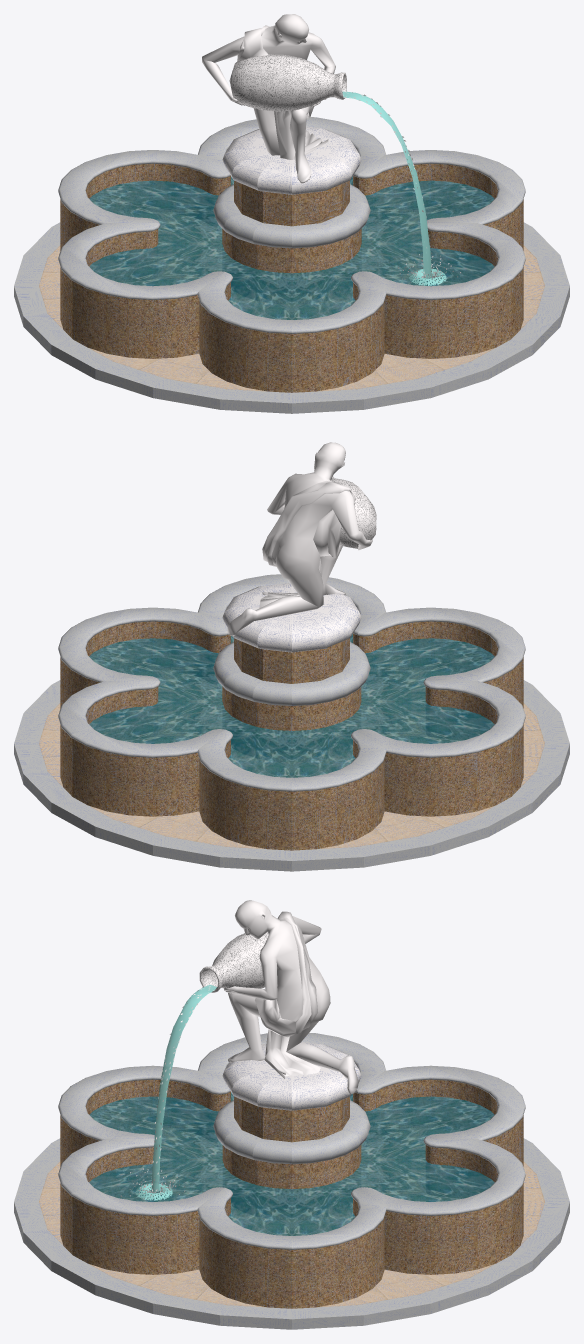
File: fountain.dae
The picture shows the model from 3 angles, top to bottom: view 1: azimuth 30°, elevation 25°; view 2: azimuth 150°, elevation 25°; view 3: azimuth 270°, elevation 25°; orthographic projection.
Visible parts, largest first — view 1: border_fountain (×54), fountain_base (×20), Statue (×2), group_0; view 2: border_fountain (×53), fountain_base (×20), Statue (×2); view 3: border_fountain (×53), fountain_base (×20), Statue (×2), group_0.
Boxes of the visible parts, x1,y1,x2,y2 form: border_fountain (×54): [58, 117, 525, 392]; fountain_base (×20): [14, 227, 569, 413]; Statue (×2): [202, 14, 336, 183]; group_0: [342, 91, 431, 278]; border_fountain (×53): [58, 574, 525, 850]; fountain_base (×20): [14, 685, 569, 871]; Statue (×2): [227, 442, 376, 636]; border_fountain (×53): [58, 1032, 525, 1308]; fountain_base (×20): [14, 1143, 569, 1329]; Statue (×2): [206, 900, 358, 1094]; group_0: [151, 984, 216, 1193].
Size of the model in its own units: 94.49 by 94.49 by 56.44.
